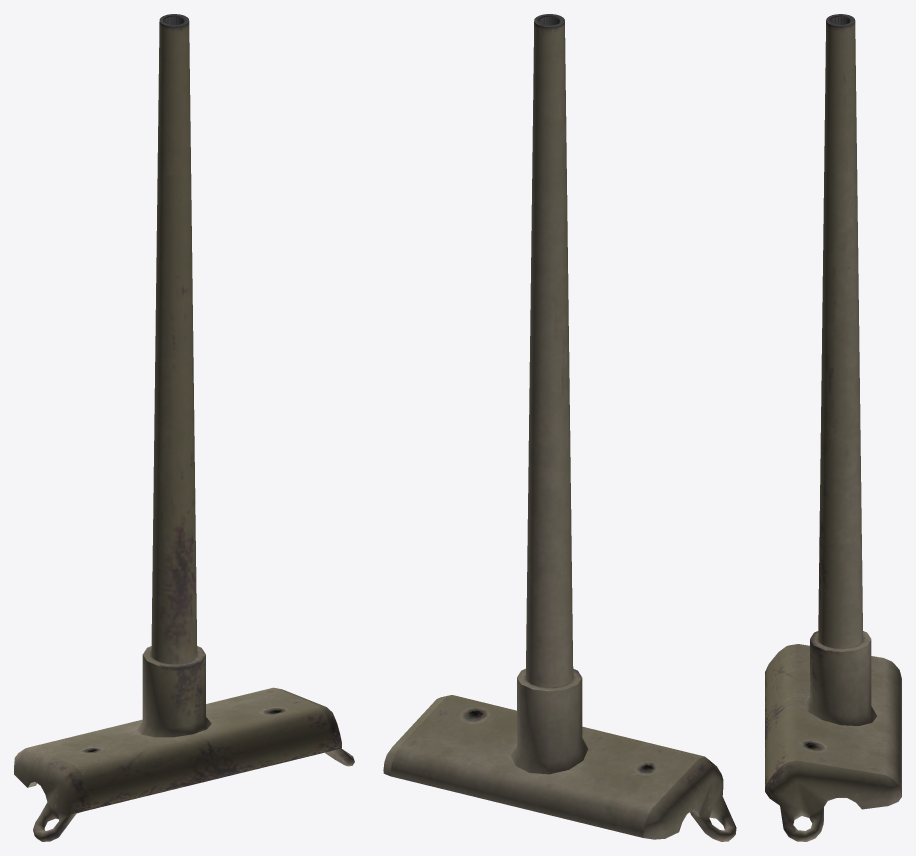
File: Gun_05.glb
3 views of the same model, side by side, from view 1: azimuth 30°, elevation 25°; view 2: azimuth 150°, elevation 25°; view 3: azimuth 270°, elevation 25° (orthographic). The views are drawn at different scales.
Parts seen in each view (by area): view 1: set_0_group_0; view 2: set_0_group_0; view 3: set_0_group_0.
Boxes of the visible parts, x1=… form: set_0_group_0: x1=14, y1=14, x2=354, y2=841; set_0_group_0: x1=383, y1=14, x2=736, y2=841; set_0_group_0: x1=765, y1=14, x2=901, y2=841.
Size of the model in its own units: 1.34 by 3.12 by 0.5169.
Materials: 1 (1 with a texture image).
